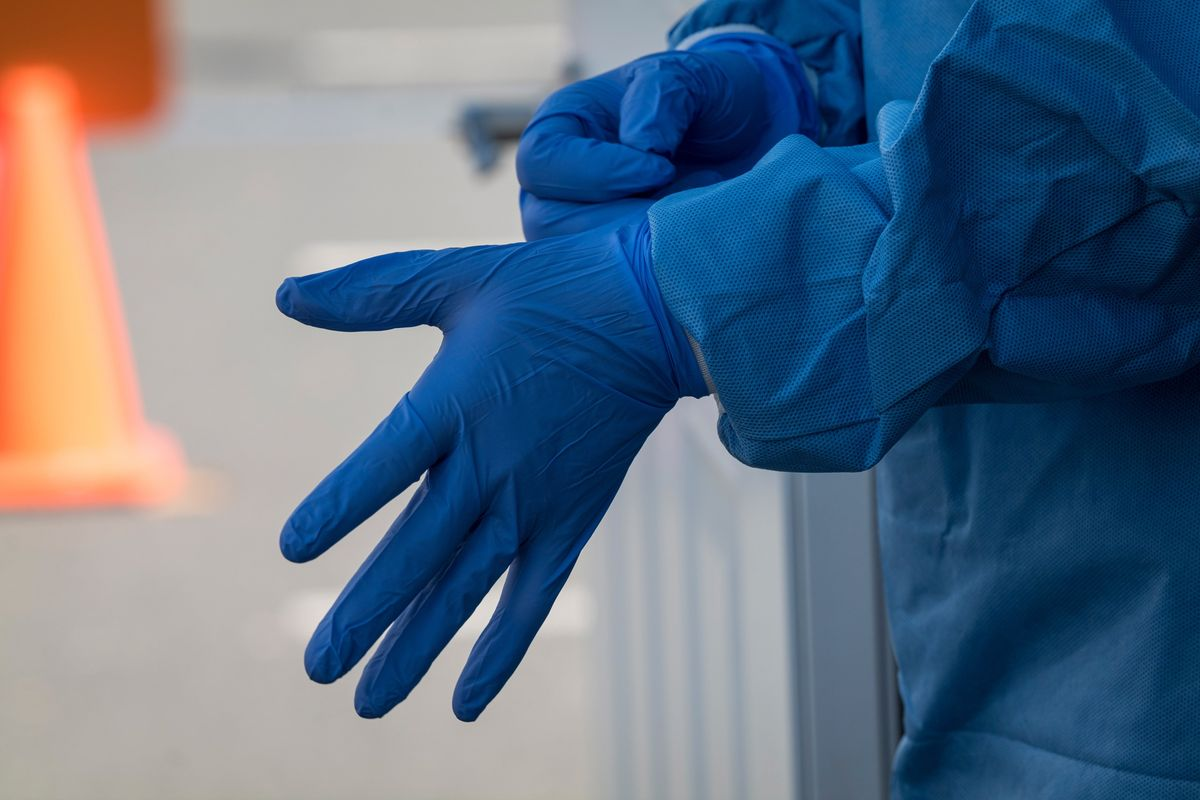Gloves: (254, 231, 723, 734), (501, 20, 839, 261)
